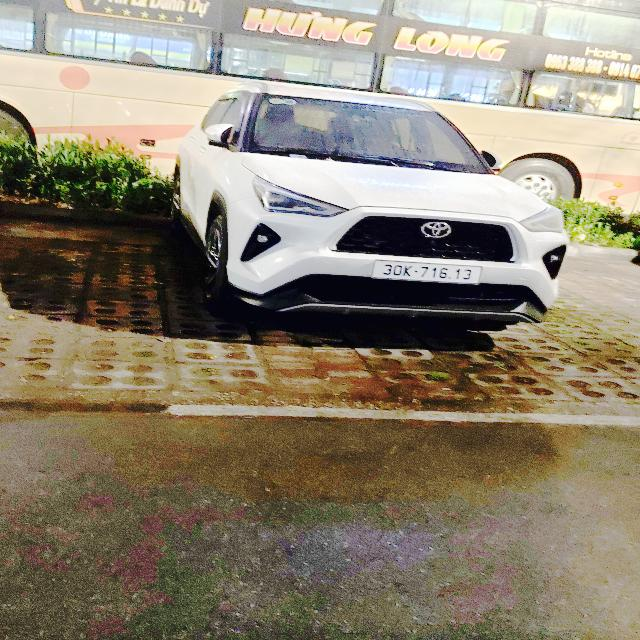license_plate: (371, 260, 485, 286)
